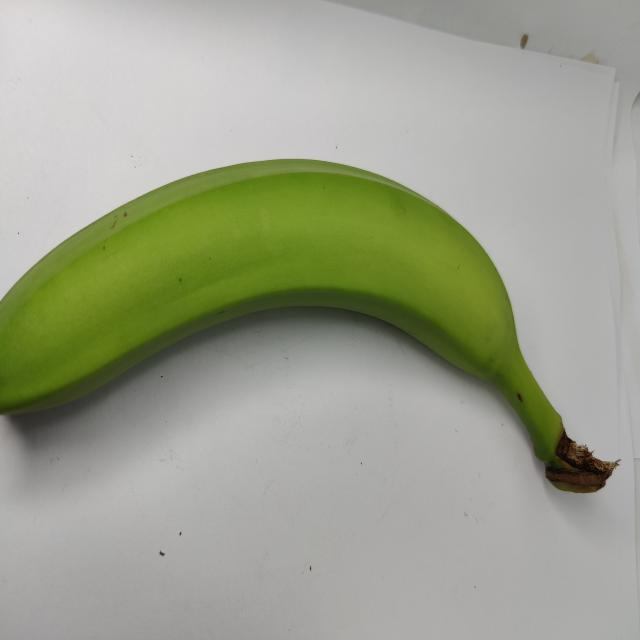raw: (0, 131, 634, 518)
